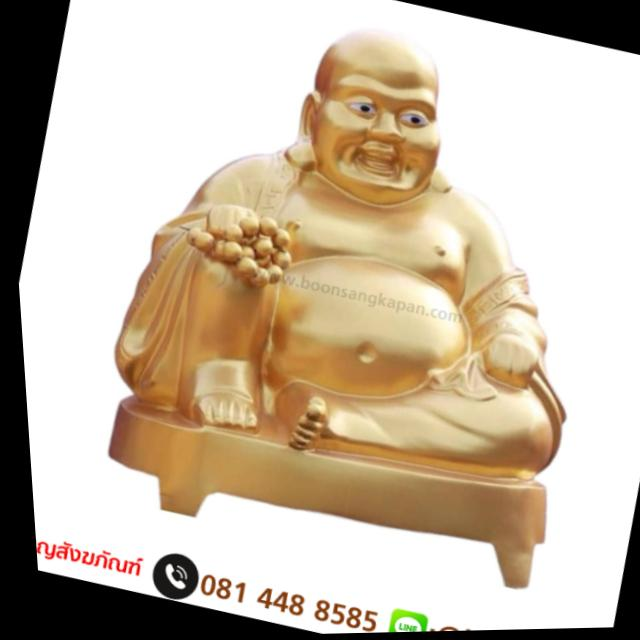Smiling Buddha: (101, 0, 628, 499)
